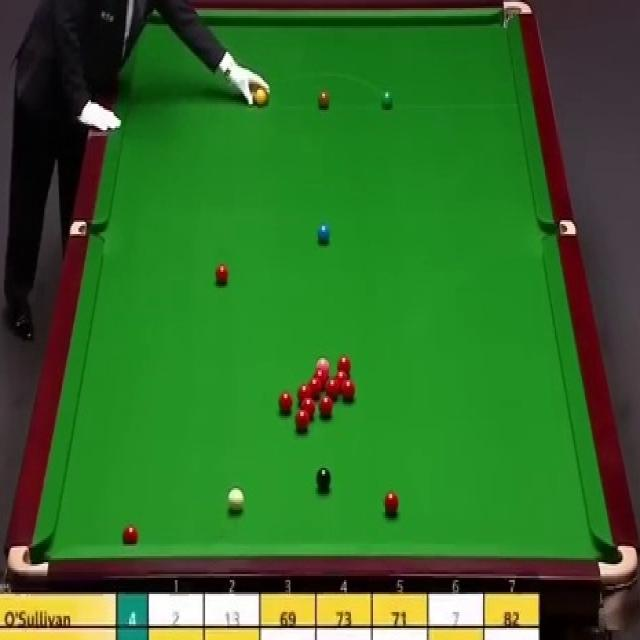pocket: (595, 540, 639, 585), (5, 543, 51, 585), (501, 0, 530, 32), (68, 218, 102, 238), (537, 220, 573, 235)
